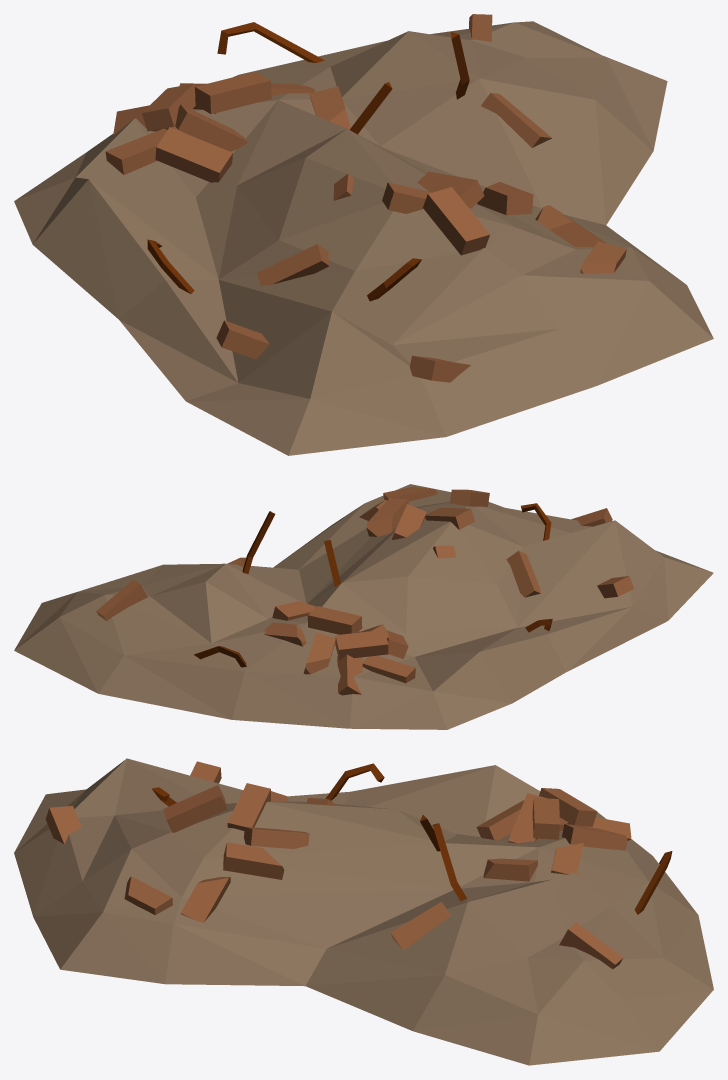
Rendered from LP_PostApoc_DebrisPileA.fbx.
3 views of the same model, one above another, from view 1: azimuth 30°, elevation 25°; view 2: azimuth 150°, elevation 25°; view 3: azimuth 270°, elevation 25° (orthographic). The views are drawn at different scales.
Parts seen in each view (by area): view 1: DebrisPileA; view 2: DebrisPileA; view 3: DebrisPileA.
Boxes of the visible parts, box(x1,y1,x2,y2) form: DebrisPileA: box(14, 14, 713, 455); DebrisPileA: box(14, 484, 713, 729); DebrisPileA: box(14, 758, 713, 1065).
Bounding box in the file's own units: 433 × 112 × 453.
